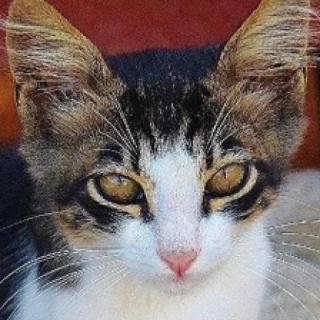cat: (5, 0, 309, 297)
nose: (144, 206, 211, 286)
